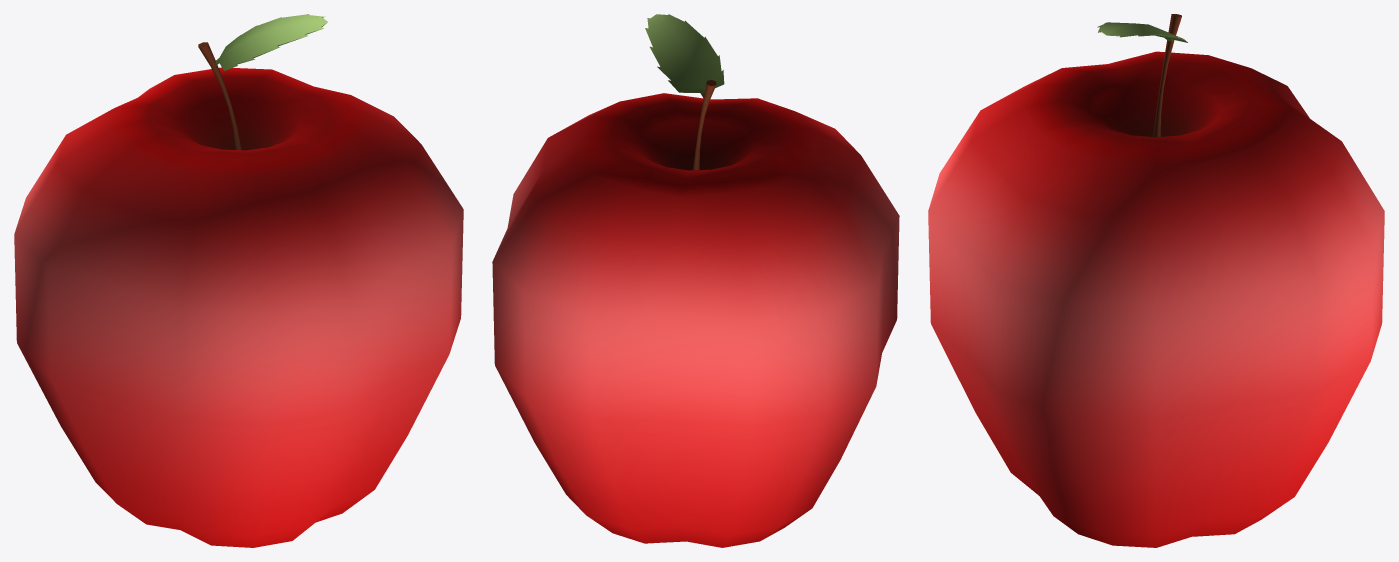
The model's file is manzana.obj.
The picture shows the model from 3 angles, left to right: view 1: azimuth 30°, elevation 25°; view 2: azimuth 150°, elevation 25°; view 3: azimuth 270°, elevation 25°; orthographic projection. The views are drawn at different scales.
Parts seen in each view (by area): view 1: obj1, obj3, obj2; view 2: obj1, obj3, obj2; view 3: obj1, obj3, obj2.
Boxes of the visible parts, box(x1,y1,x2,y2) form: obj1: box(14, 67, 463, 547); obj3: box(215, 14, 327, 70); obj2: box(198, 42, 241, 150); obj1: box(492, 93, 899, 547); obj3: box(645, 14, 724, 97); obj2: box(693, 79, 716, 170); obj1: box(928, 51, 1384, 547); obj3: box(1097, 22, 1187, 42); obj2: box(1153, 14, 1181, 137).
Bounding box in the file's own units: 37.42 × 45.94 × 37.42.
Materials: 1 (1 with a texture image).
